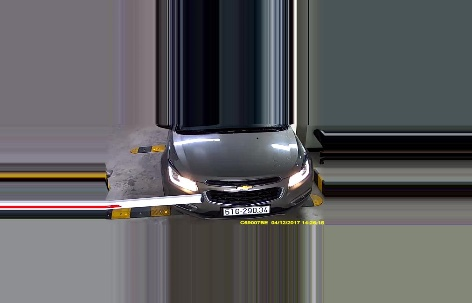plate: (221, 204, 272, 218)
